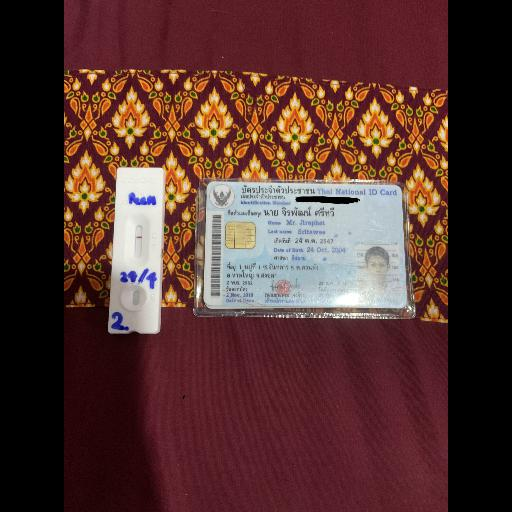Neg: (107, 167, 163, 333)
